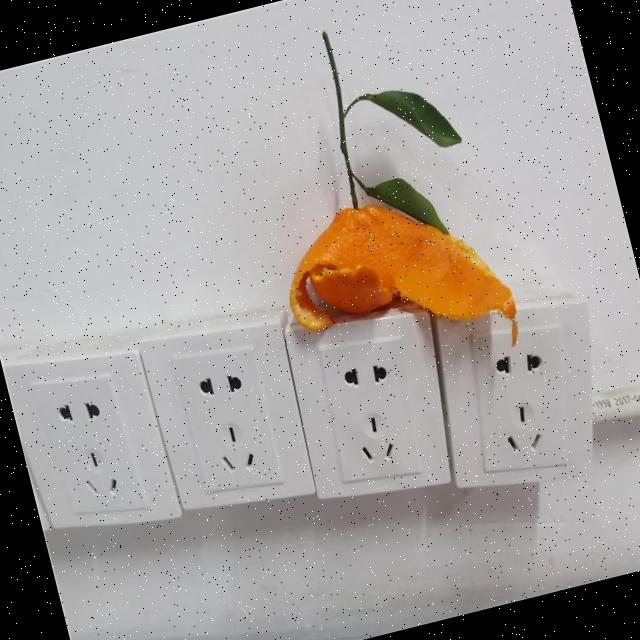orange-peel: (268, 170, 525, 394)
